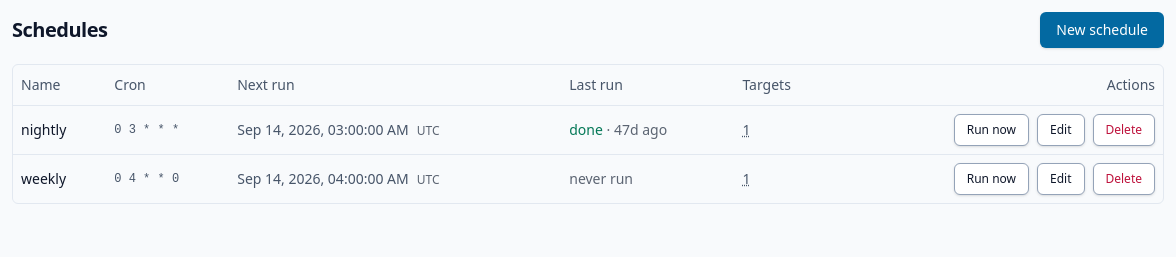
it: Schedules page › shows an error when Run now fails
Expected: the text "nightly" is shown, [13,105,106,154]
Click the button "Run now" in the row of "nightly" at (991, 130), box [954,114,1029,146]
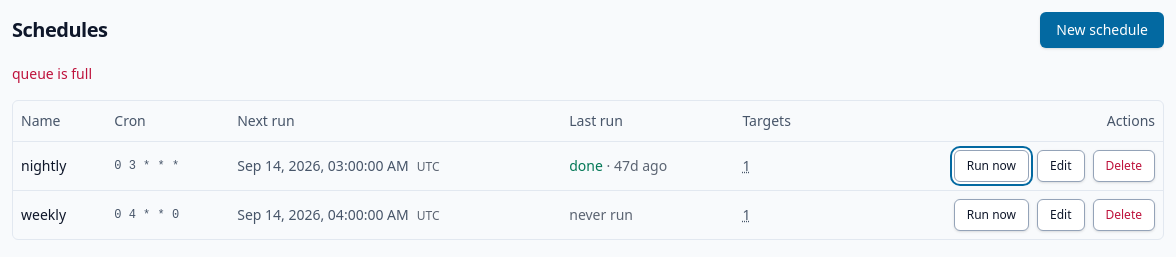
Now the message reads "queue is full", box [12,64,92,83]
